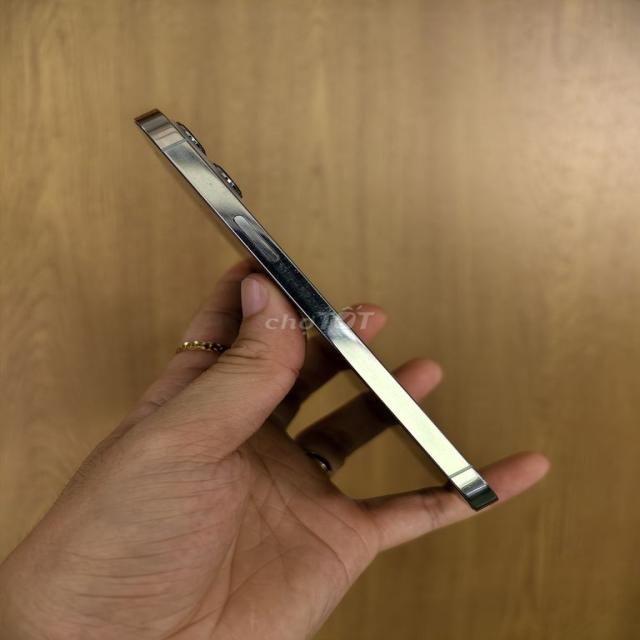gen_12_13: (127, 96, 504, 516)
